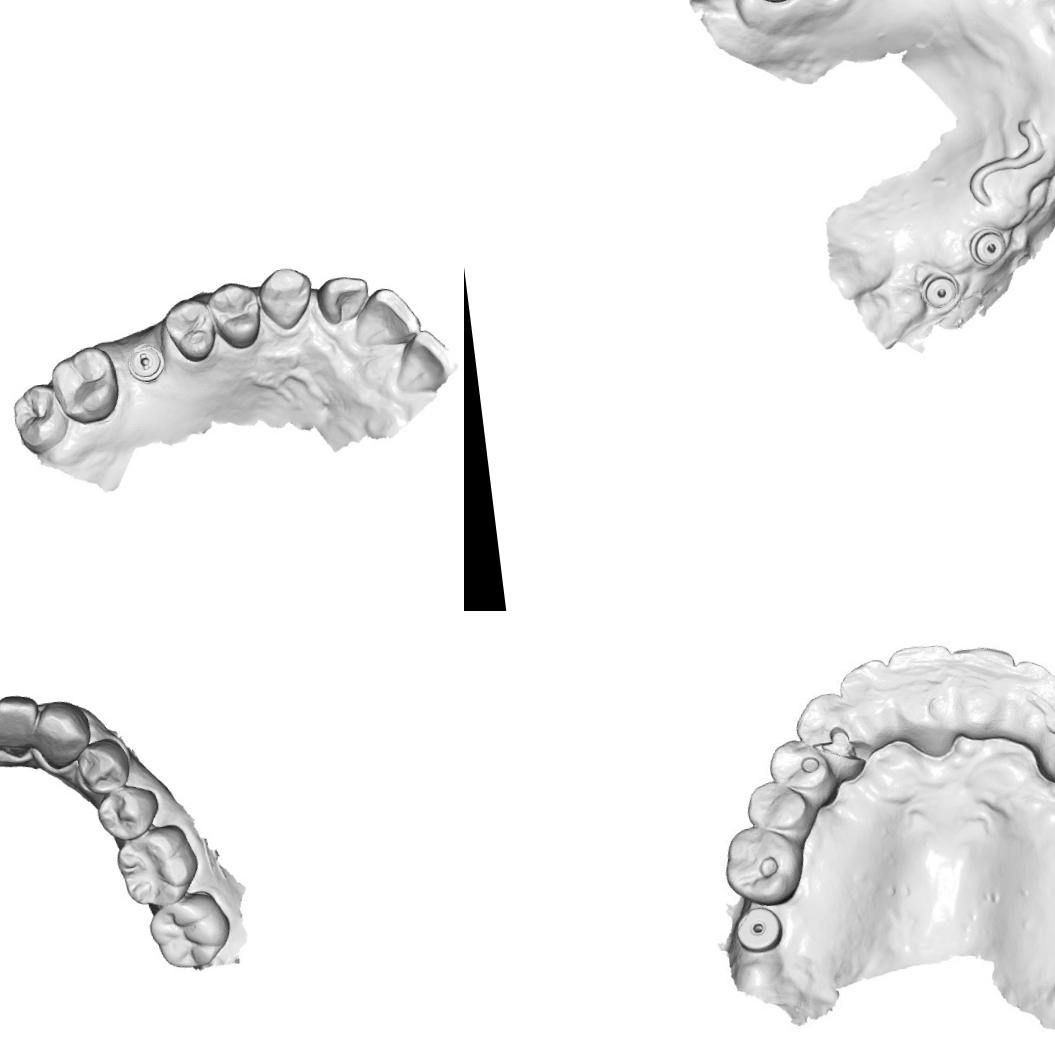canine: (796, 690, 863, 782), (31, 696, 98, 773), (254, 262, 318, 335), (1039, 692, 1055, 770)
implant: (732, 904, 787, 956), (968, 224, 1011, 267), (920, 268, 961, 312)
implant_minus: (123, 340, 169, 387)
incisor: (882, 639, 964, 740), (949, 637, 1022, 742), (836, 657, 896, 752), (351, 282, 426, 355), (390, 325, 455, 396), (1006, 653, 1055, 745), (312, 271, 374, 328), (0, 689, 45, 747)
molar: (113, 820, 203, 912), (144, 888, 234, 977), (720, 822, 810, 910), (46, 341, 126, 430), (6, 378, 72, 458)
premolar: (768, 736, 836, 812), (158, 293, 221, 367), (204, 277, 266, 352), (744, 772, 814, 838), (94, 782, 164, 846), (73, 735, 135, 800)
